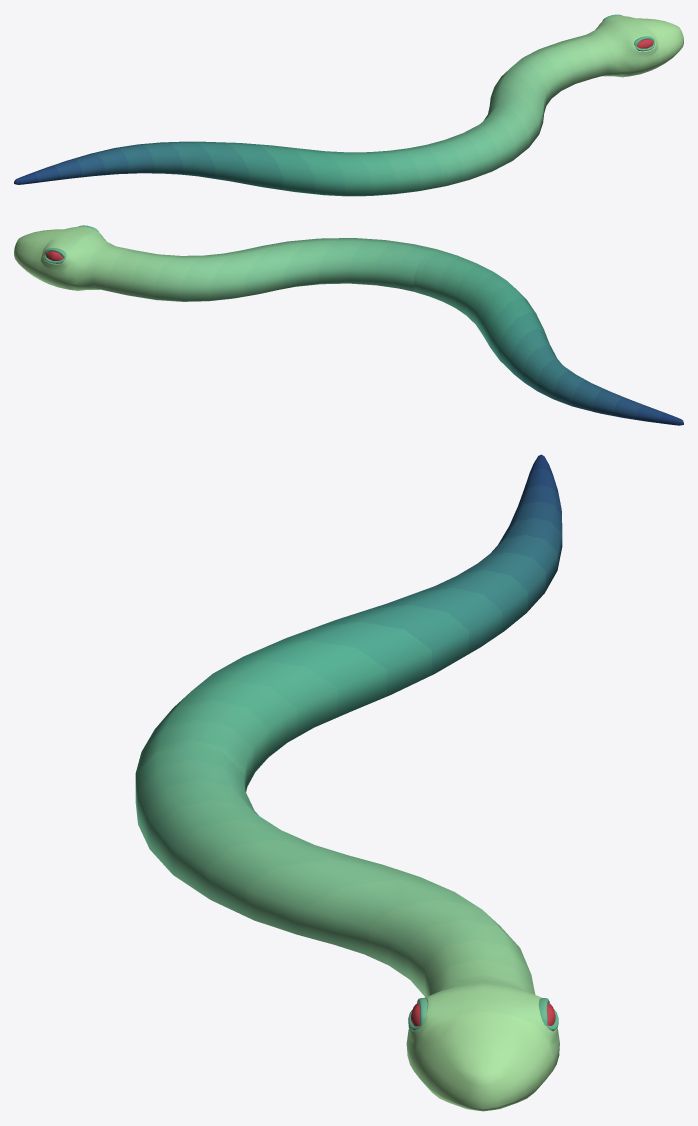
Rendered from Snake_Tongue_Source_Adjusted.fbx.
The picture shows the model from 3 angles, top to bottom: view 1: azimuth 30°, elevation 25°; view 2: azimuth 150°, elevation 25°; view 3: azimuth 270°, elevation 25°; orthographic projection. The views are drawn at different scales.
Parts seen in each view (by area): view 1: Snake_Tongue_Source_Adjusted; view 2: Snake_Tongue_Source_Adjusted; view 3: Snake_Tongue_Source_Adjusted.
Boxes of the visible parts, x1,y1,x2,y2 form: Snake_Tongue_Source_Adjusted: [14, 14, 683, 196]; Snake_Tongue_Source_Adjusted: [14, 225, 683, 425]; Snake_Tongue_Source_Adjusted: [135, 454, 562, 1111].
Size of the model in its own units: 50.69 by 3.6 by 14.33.
